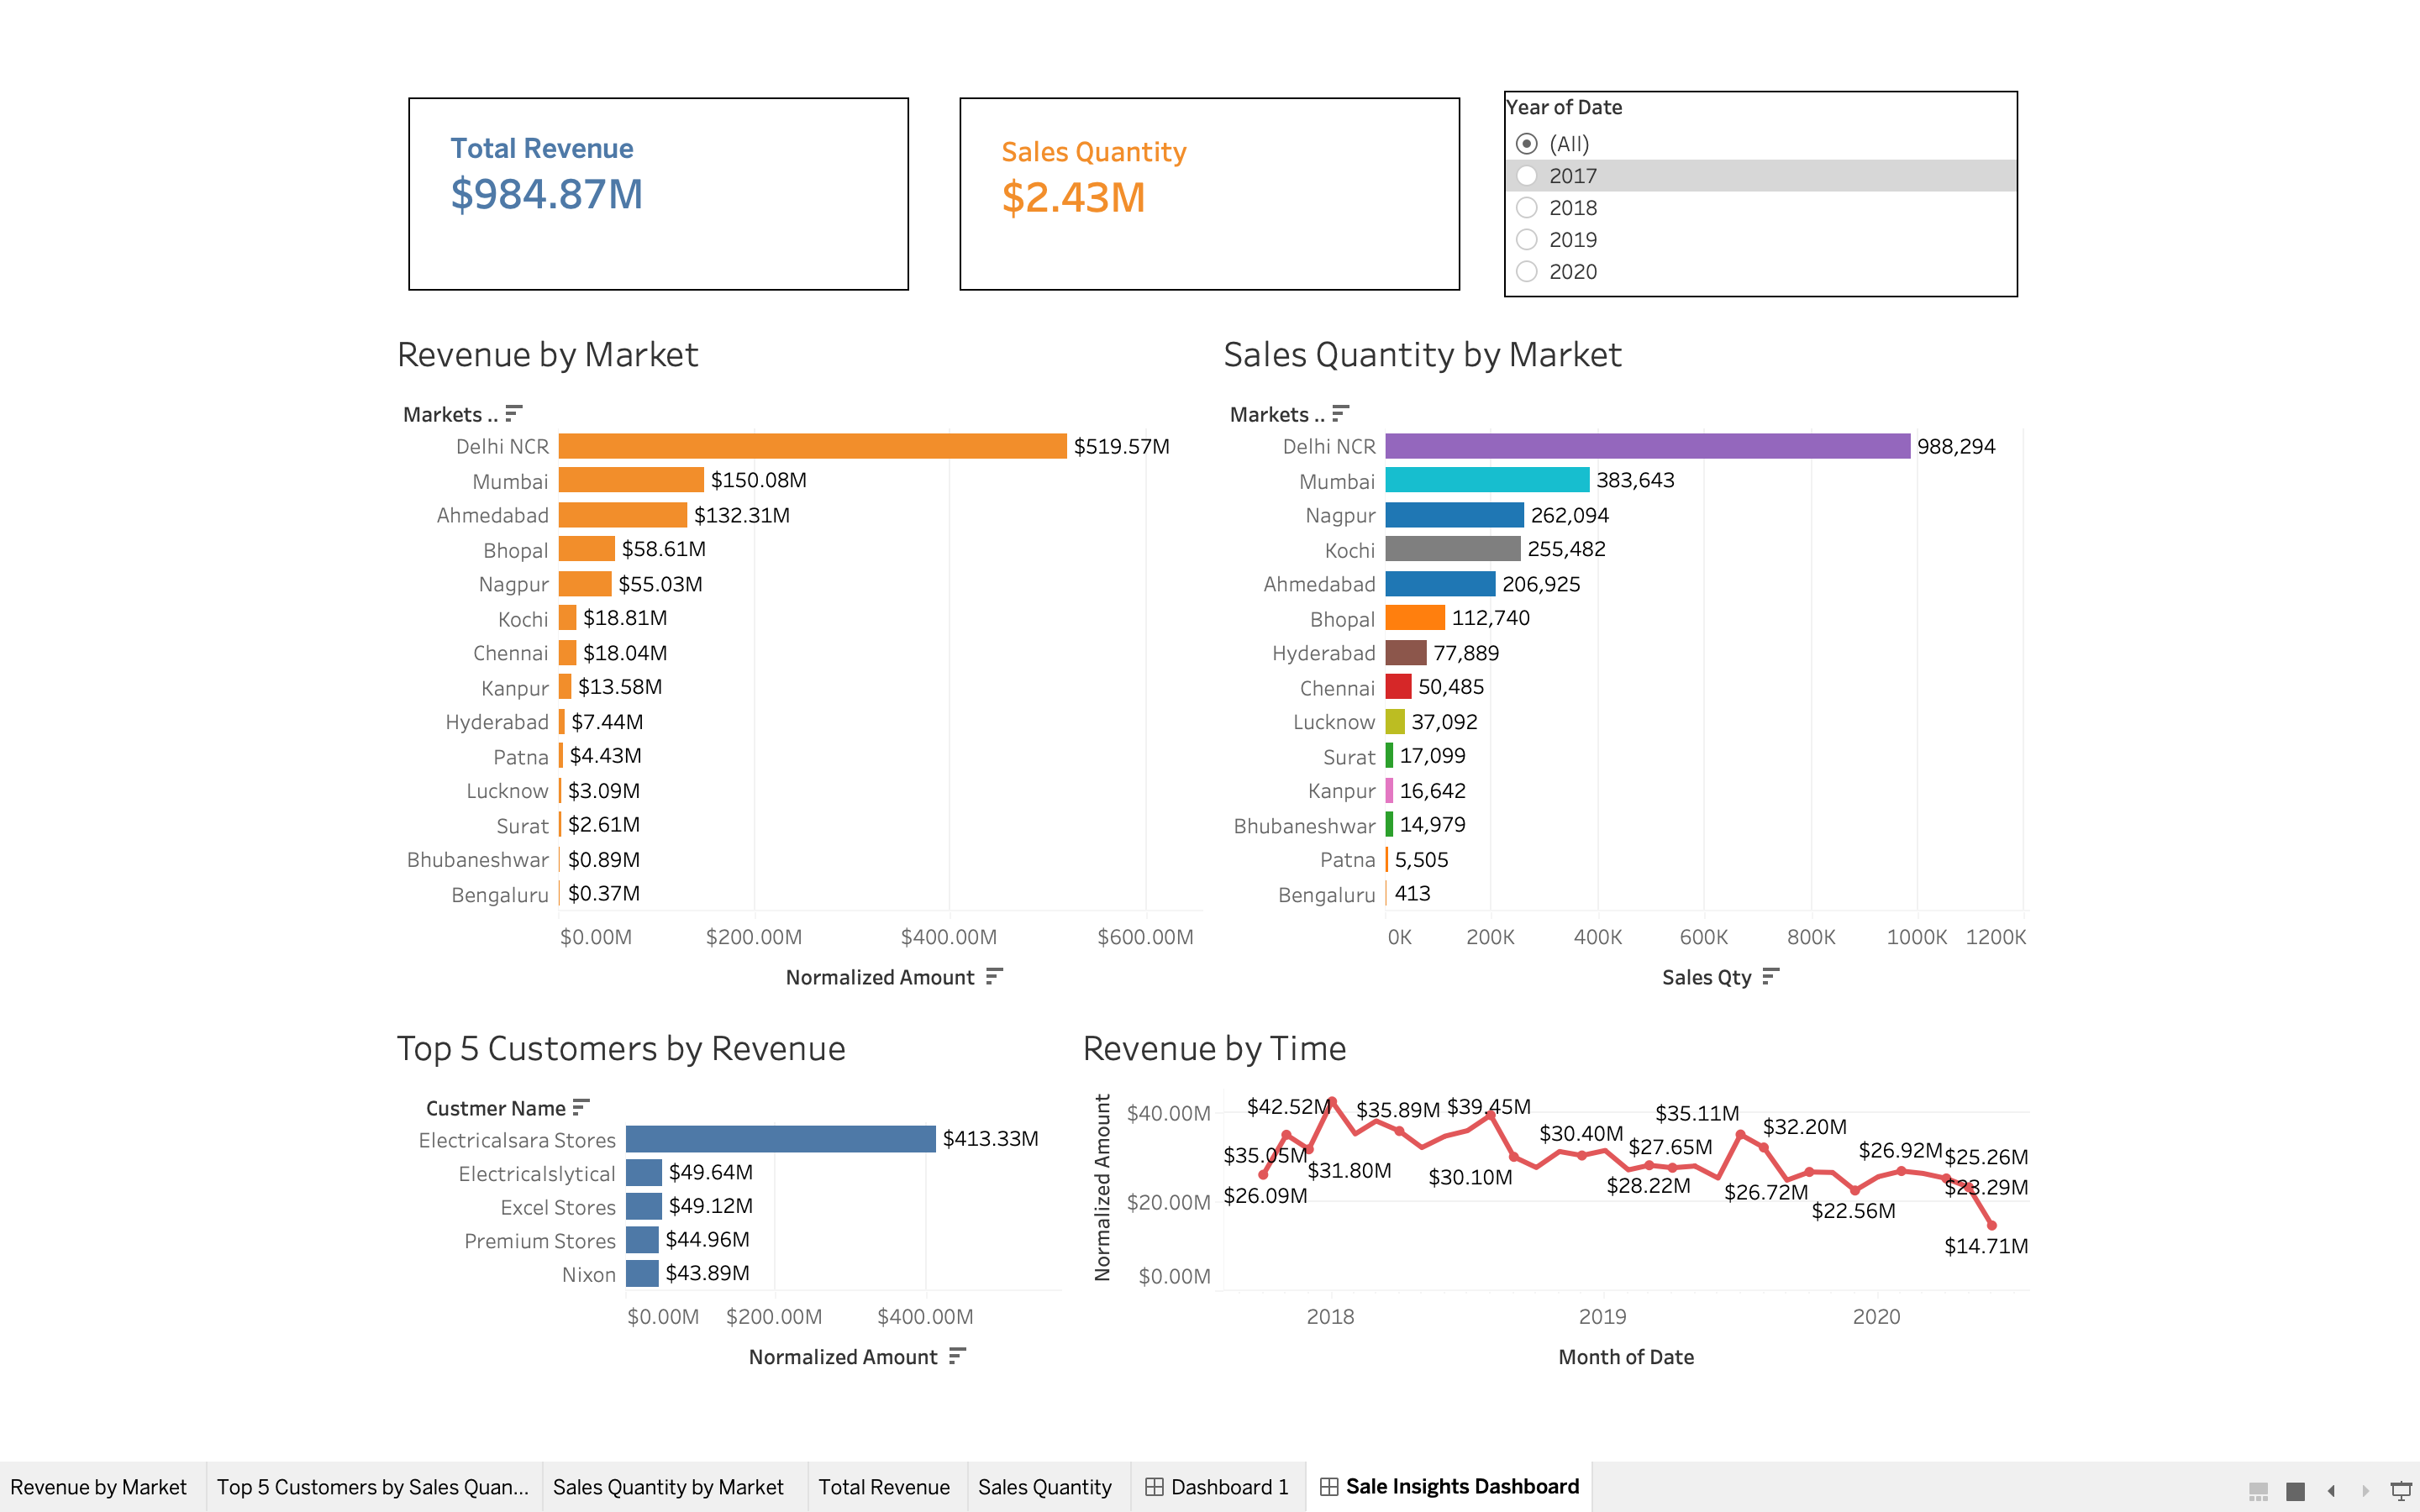

This screenshot's page, from the dashboard's own definition file:
{"tool":"tableau","page":{"name":"Sale Insights Dashboard","canvas":[1000,800],"ordinal":1},"visuals":[{"type":"worksheet","title":"Total Revenue","mark":"Automatic","box":[8,8,328,145]},{"type":"worksheet","title":"Sales Quantity","mark":"Automatic","box":[336,8,328,145]},{"type":"filter","title":"Sales Quantity","param":"[federated.09oybzo1ktzdy8159a4xf05gcyq8].[yr:date:ok]","box":[664,8,328,145]},{"type":"worksheet","title":"Revenue by Market","mark":"Automatic","rows":["markets_name"],"cols":["Calculation_0472715697967104"],"box":[8,153,492,412.9]},{"type":"worksheet","title":"Sales Quantity by Market","mark":"Automatic","rows":["markets_name"],"cols":["sales_qty"],"box":[500,153,492,412.9]},{"type":"worksheet","title":"Top 5 Customers by Revenue","mark":"Automatic","rows":["custmer_name"],"cols":["Calculation_0472715697967104"],"box":[8,565.9,408,226.1]},{"type":"worksheet","title":"Revenue by Time","mark":"Line","rows":["Calculation_0472715697967104"],"cols":["date"],"box":[416,565.9,576,226.1]}]}

Visuals, with their boxes on the page's 1000x800 design canvas (x1, y1, x2, y2). These are canvas units, not pixel positions in the 2420x1512 screenshot, which may show the page scaled, cropped or inside an application window:
"Total Revenue" worksheet: [8, 8, 336, 153]
"Sales Quantity" worksheet: [336, 8, 664, 153]
"Sales Quantity" filter: [664, 8, 992, 153]
"Revenue by Market" worksheet: [8, 153, 500, 566]
"Sales Quantity by Market" worksheet: [500, 153, 992, 566]
"Top 5 Customers by Revenue" worksheet: [8, 566, 416, 792]
"Revenue by Time" worksheet (Line marks): [416, 566, 992, 792]
